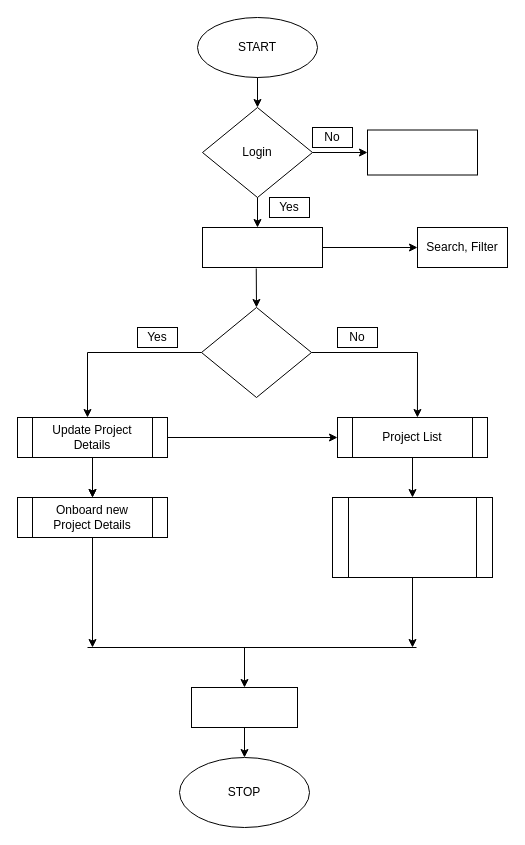
The diagram is 525 pixels wide and 845 high, and some of its shapes have lost their labels. Each missing label, with the centre of its shape:
Dashboard: the point at 262,247
Logout: the point at 244,707
Manger / HR: the point at 256,352
Project Details Employee working Technology used Individual skill Client Details: the point at 412,537
Register: the point at 422,152
